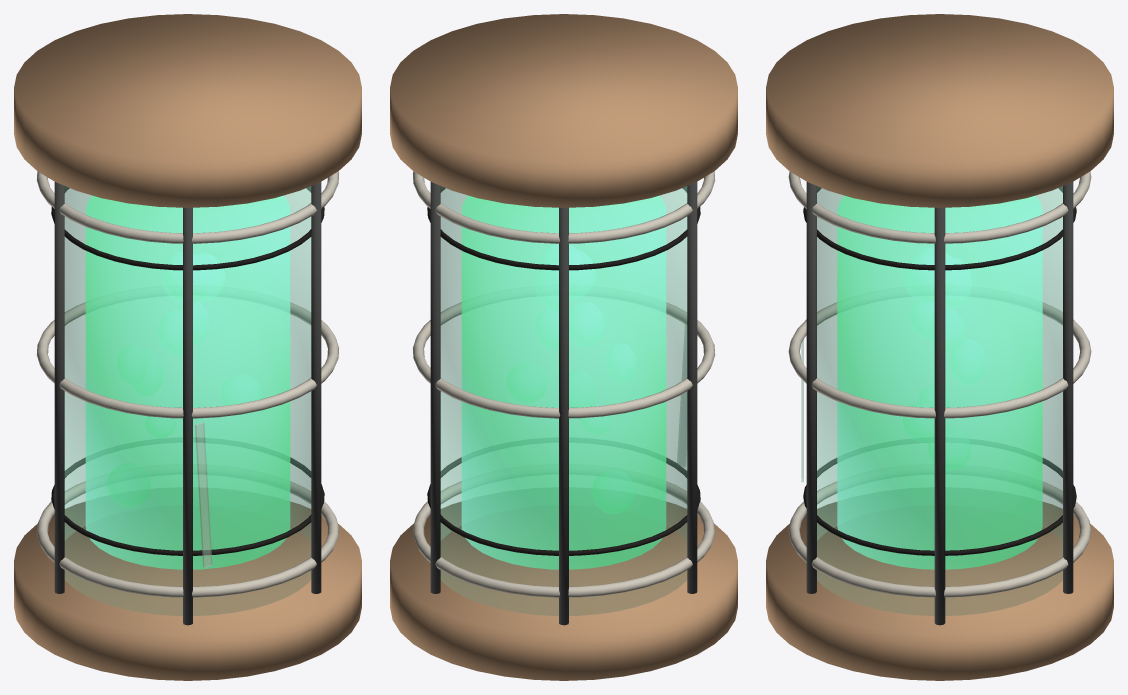
The model's file is LiquidFuel.fbx.
The picture shows the model from 3 angles, left to right: view 1: azimuth 30°, elevation 25°; view 2: azimuth 150°, elevation 25°; view 3: azimuth 270°, elevation 25°; orthographic projection.
Visible parts, largest first — view 1: SM_FictionalGelCanister_GlassTube_A; view 2: SM_FictionalGelCanister_GlassTube_A; view 3: SM_FictionalGelCanister_GlassTube_A.
Boxes of the visible parts, bbox=[...] form: SM_FictionalGelCanister_GlassTube_A: bbox=[14, 14, 361, 680]; SM_FictionalGelCanister_GlassTube_A: bbox=[390, 14, 737, 680]; SM_FictionalGelCanister_GlassTube_A: bbox=[766, 14, 1113, 680].
Bounding box in the file's own units: 33.65 × 55.48 × 33.65.
